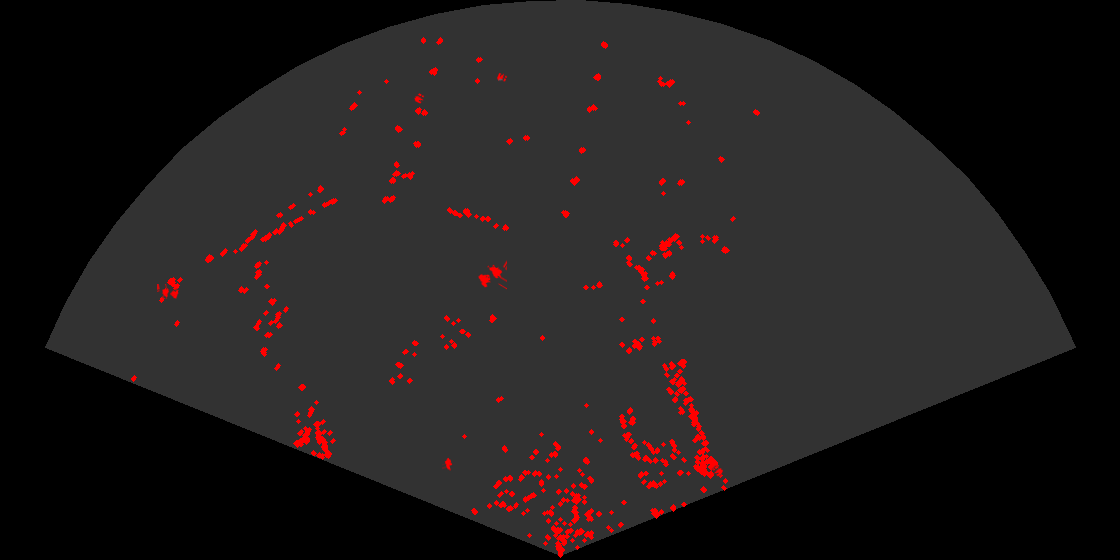AUV: (442, 456, 454, 472)
ball: (413, 92, 426, 105), (711, 465, 724, 478), (495, 71, 509, 83)
cage: (477, 259, 507, 291), (157, 284, 180, 300)
